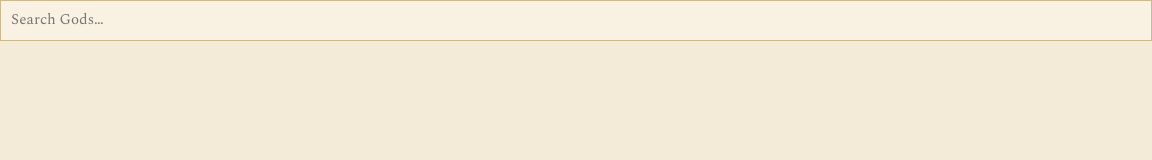
Test case: WikiLinkPicker candidates › offers only folios in the target folder
Step 1. Click the dropdown → [576, 20], box [11,8,1141,33]
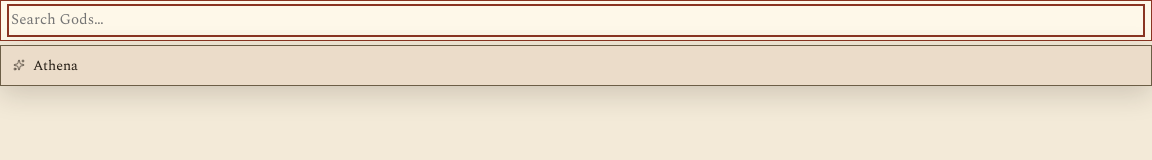
Expected: the options read "Athena", in this order, [1,46,1151,85]
